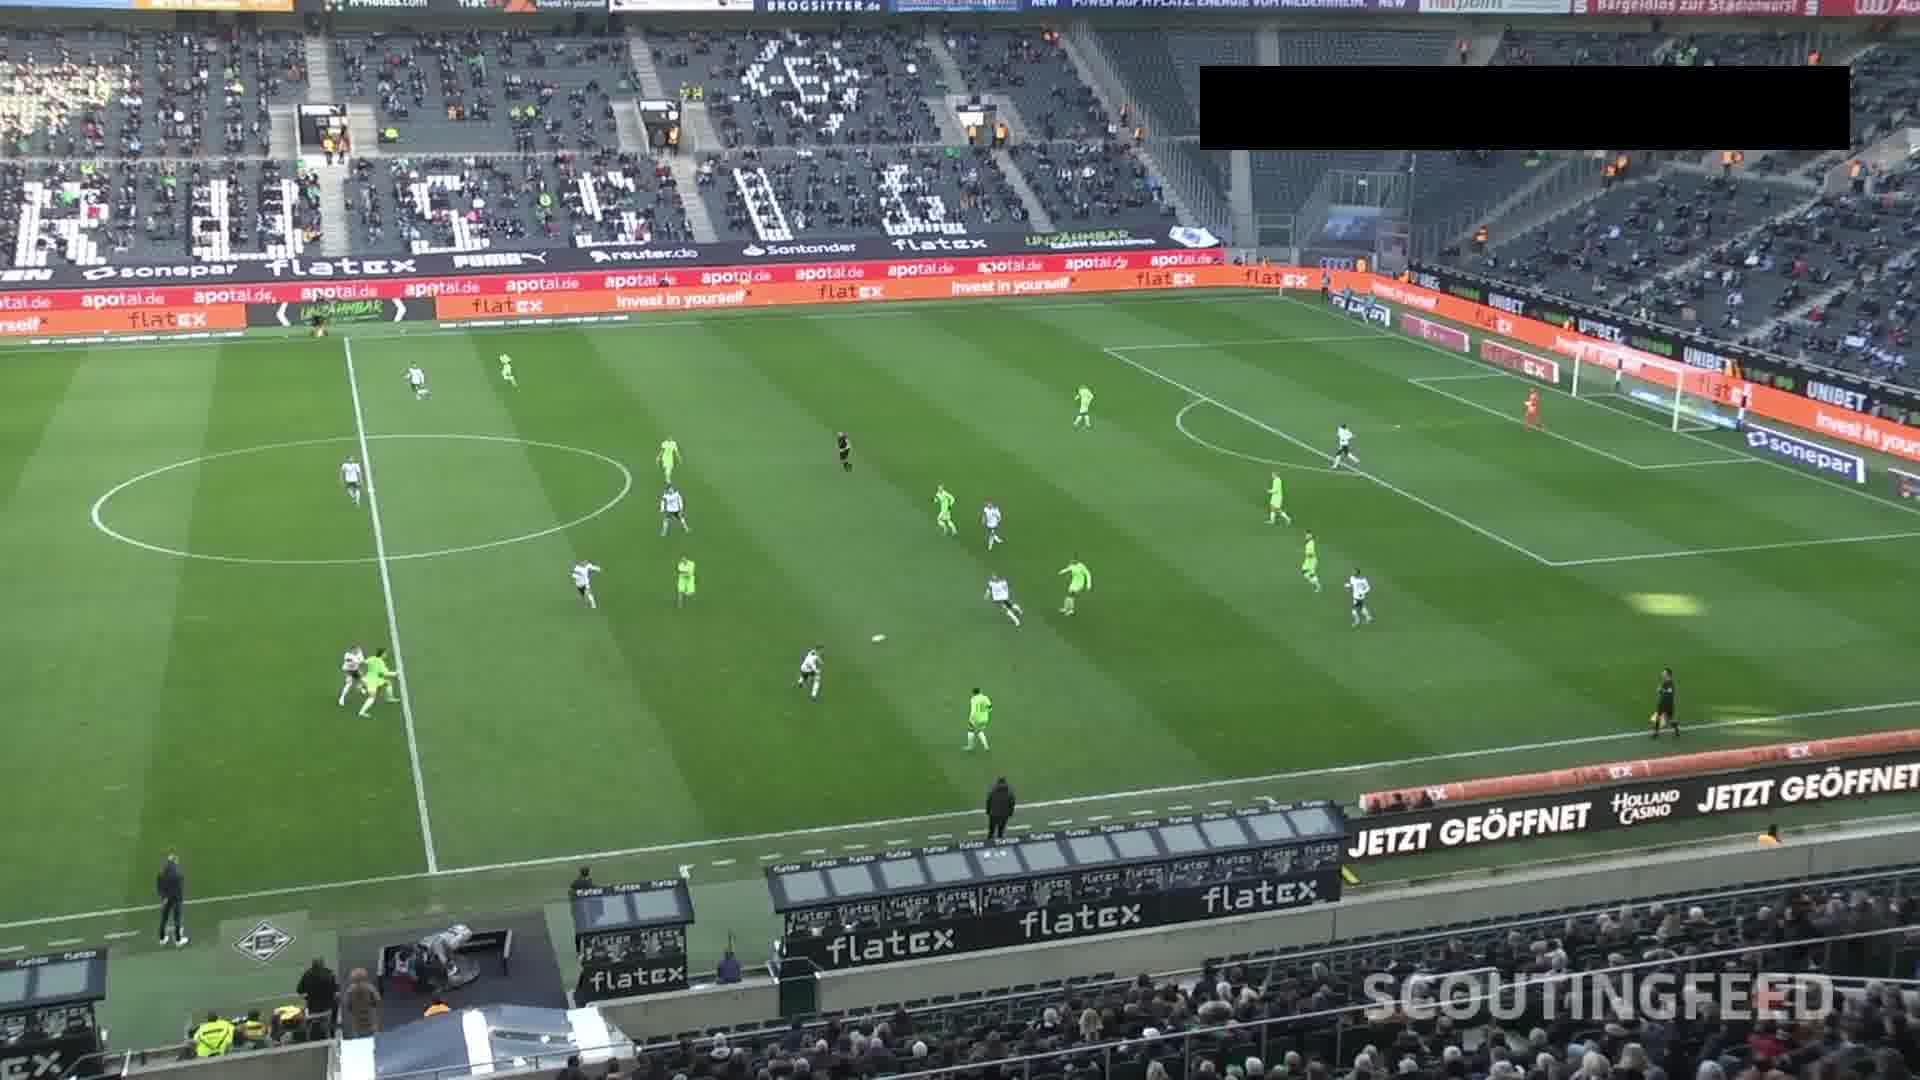football: (872, 633, 887, 644)
